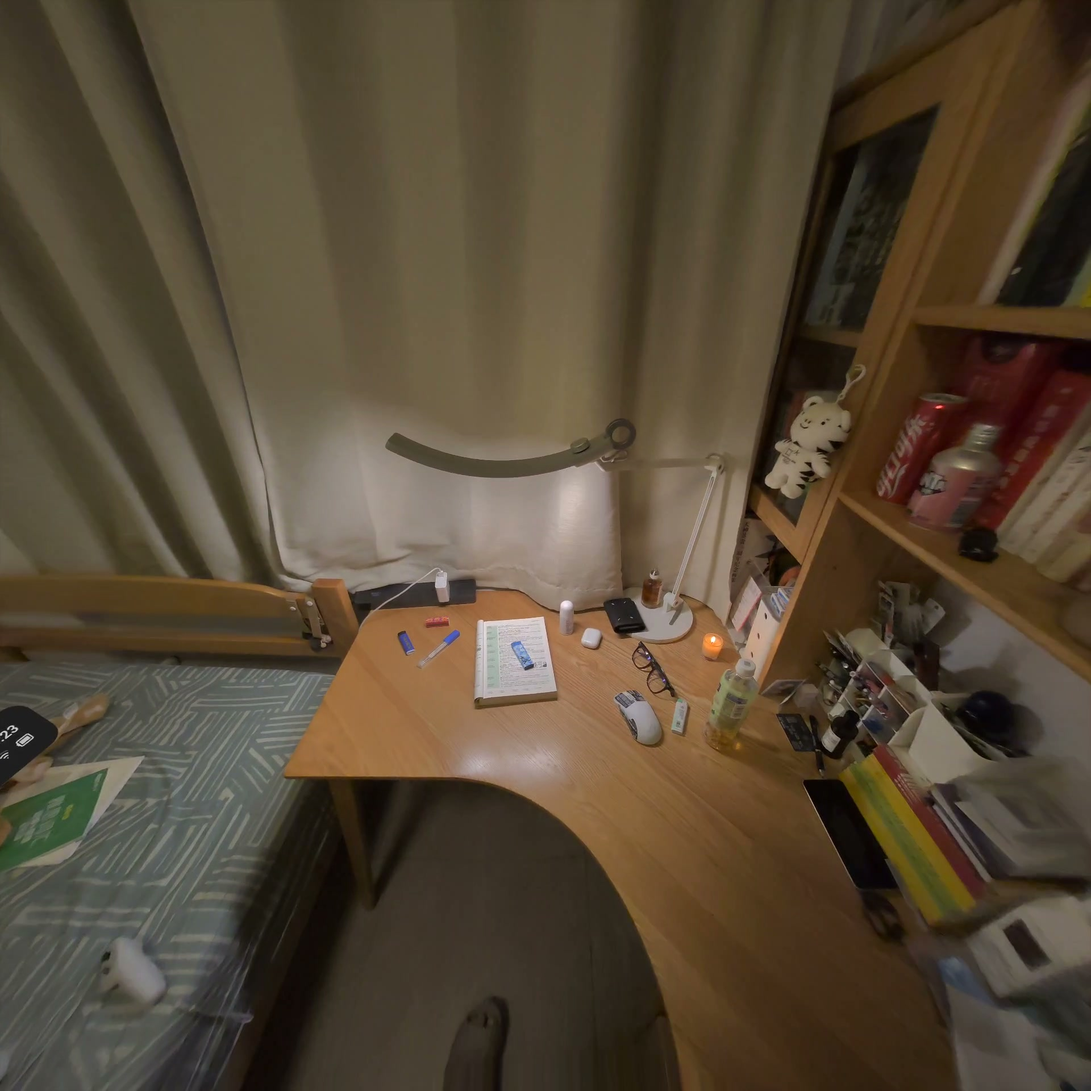lighter: (511, 640, 533, 669)
